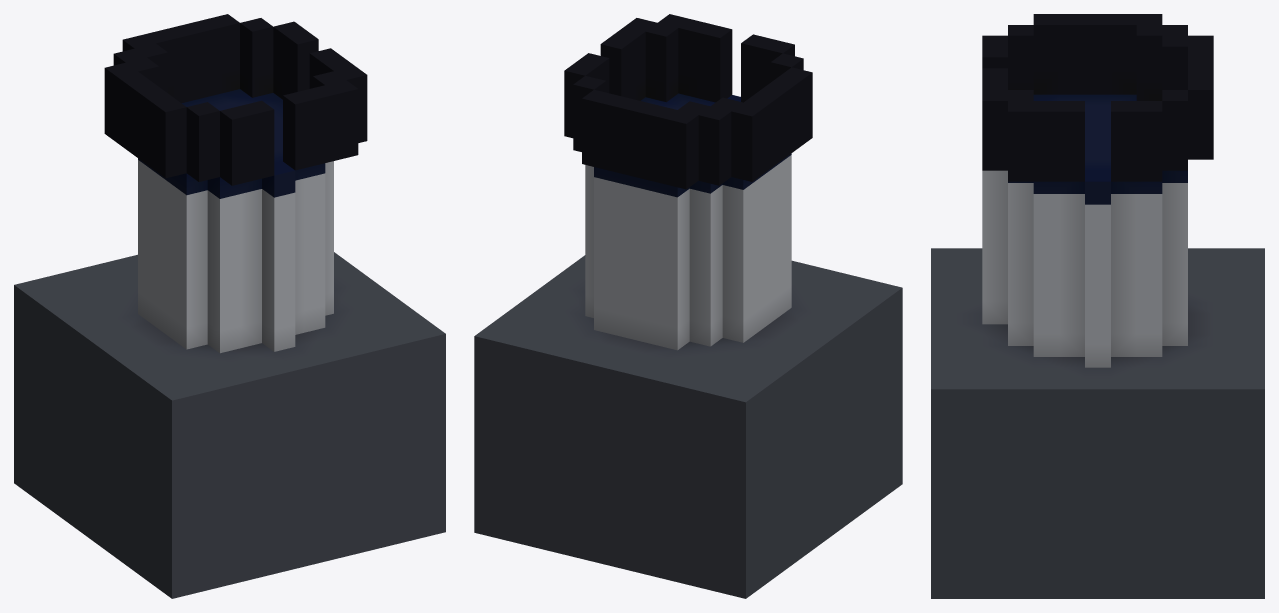
Rendered from inst_wac.glb.
The picture shows the model from 3 angles, left to right: view 1: azimuth 30°, elevation 25°; view 2: azimuth 150°, elevation 25°; view 3: azimuth 270°, elevation 25°; orthographic projection. The views are drawn at different scales.
Visible parts, largest first — view 1: inst_wac; view 2: inst_wac; view 3: inst_wac.
Part boxes in pixels (x1,y1,x2,y2): inst_wac: (14,14,445,598); inst_wac: (474,14,902,598); inst_wac: (931,14,1264,598).
Bounding box in the file's own units: 0.2031 × 0.3125 × 0.2031.
